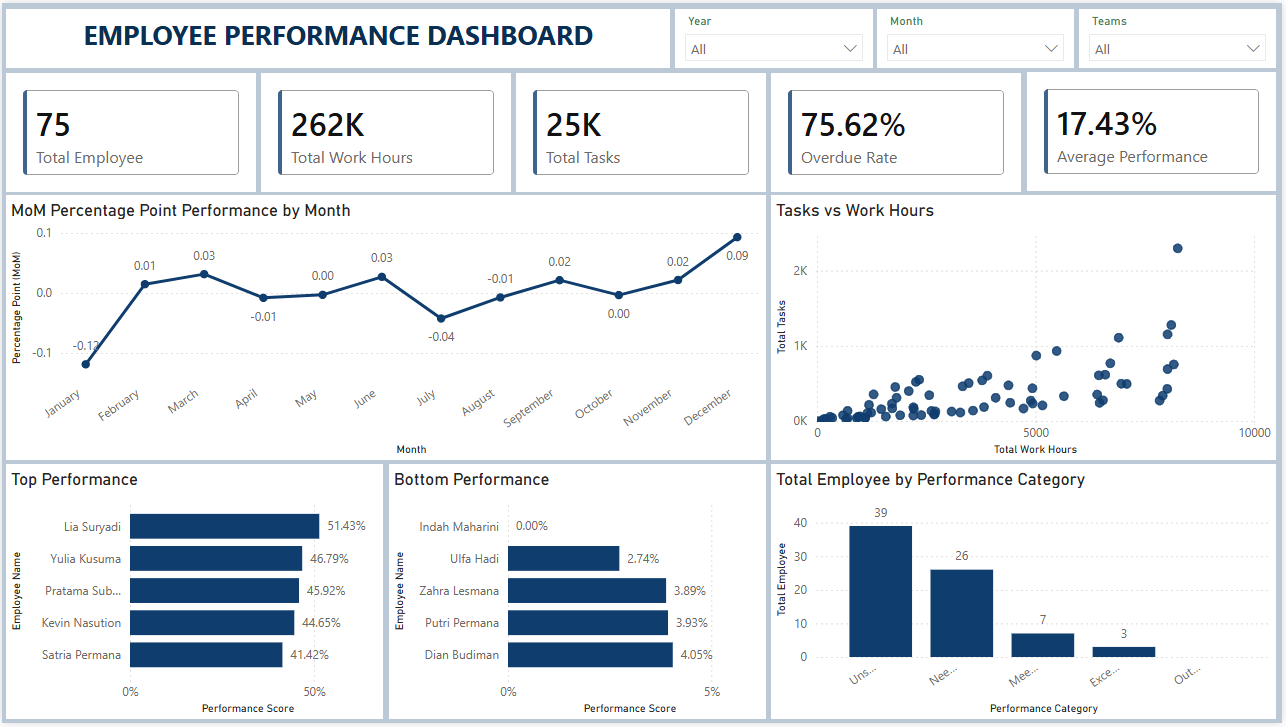

What the dashboard file says about the page in this screenshot:
{"tool":"powerbi","page":{"name":"Page 1","canvas":[1280,720],"ordinal":0},"visuals":[{"type":"cardVisual","title":"Total Employee","fields":{"Data":["CountNonNull(DimEmployee.employee_id)"]},"box":[3.5,70.1,250,118.5],"z":0},{"type":"clusteredBarChart","title":"Bottom Performance","fields":{"Category":["DimEmployee.full_name"],"Y":["Timesheet.Performance Score"]},"box":[387.1,461,377,254.6],"z":1000},{"type":"clusteredBarChart","title":"Top Performance","fields":{"Category":["DimEmployee.full_name"],"Y":["Timesheet.Performance Score"]},"box":[3.5,461,377,254.6],"z":2000},{"type":"slicer","fields":{"Values":["dimDate.Year"]},"box":[673.5,6.3,197.6,58.8],"z":3000},{"type":"slicer","fields":{"Values":["DimEmployee.team_name"]},"box":[1077.4,6.3,196.7,58.8],"z":4000},{"type":"slicer","fields":{"Values":["dimDate.Month"]},"box":[875.4,6.3,196.7,58.8],"z":5000},{"type":"textbox","box":[3.5,6.1,664.7,58.8],"z":6000},{"type":"clusteredColumnChart","title":"Total Employee by Performance Category","fields":{"Category":["Performance Category.Category"],"Y":["Timesheet.Employee by Performance Range"]},"box":[769.2,461,504.9,254.6],"z":7000},{"type":"lineChart","title":"MoM Percentage Point Performance by Month","fields":{"Category":["dimDate.Month"],"Y":["Timesheet.Performance MoM %"]},"box":[3.7,192.3,760.4,264.3],"z":8000},{"type":"scatterChart","title":"Tasks vs Work Hours","fields":{"Category":["DimEmployee.full_name"],"X":["Sum(Timesheet.total_hour)"],"Y":["Timesheet.Total Task"]},"box":[769.2,192.3,504.9,264.3],"z":9000},{"type":"cardVisual","fields":{"Data":["Timesheet.Total Work Hours"]},"box":[258.8,70.1,250,118.5],"z":10000},{"type":"cardVisual","fields":{"Data":["Timesheet.Total Task"]},"box":[514.1,70.1,250,118.5],"z":11000},{"type":"cardVisual","fields":{"Data":["Timesheet.Overdue Rate"]},"box":[769.4,70.1,250,118.5],"z":12000},{"type":"cardVisual","fields":{"Data":["Timesheet.Average Performance"]},"box":[1024.7,69.4,249.4,118.5],"z":13000}]}

Visuals, with their boxes in screenshot pixels (x1, y1, x2, y2), scaled from the page's 1280x720 canvas onto the 1286x727 screenshot:
"Total Employee" cardVisual: detection(4, 71, 255, 190)
"Bottom Performance" clusteredBarChart: detection(389, 465, 768, 723)
"Top Performance" clusteredBarChart: detection(4, 465, 382, 723)
slicer - dimDate.Year: detection(677, 6, 875, 66)
slicer - DimEmployee.team_name: detection(1082, 6, 1280, 66)
slicer - dimDate.Month: detection(880, 6, 1077, 66)
textbox: detection(4, 6, 671, 66)
"Total Employee by Performance Category" clusteredColumnChart: detection(773, 465, 1280, 723)
"MoM Percentage Point Performance by Month" lineChart: detection(4, 194, 768, 461)
"Tasks vs Work Hours" scatterChart: detection(773, 194, 1280, 461)
cardVisual - Timesheet.Total Work Hours: detection(260, 71, 511, 190)
cardVisual - Timesheet.Total Task: detection(517, 71, 768, 190)
cardVisual - Timesheet.Overdue Rate: detection(773, 71, 1024, 190)
cardVisual - Timesheet.Average Performance: detection(1030, 70, 1280, 190)
